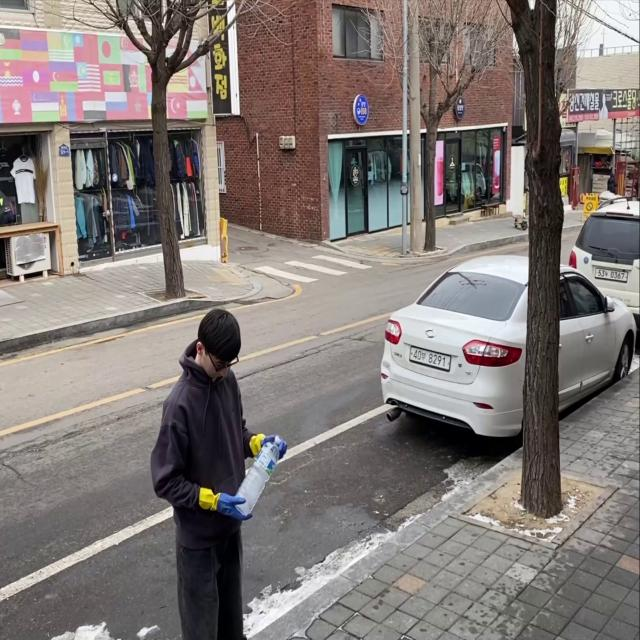gloved_hand: (218, 489, 256, 526), (262, 432, 288, 464)
